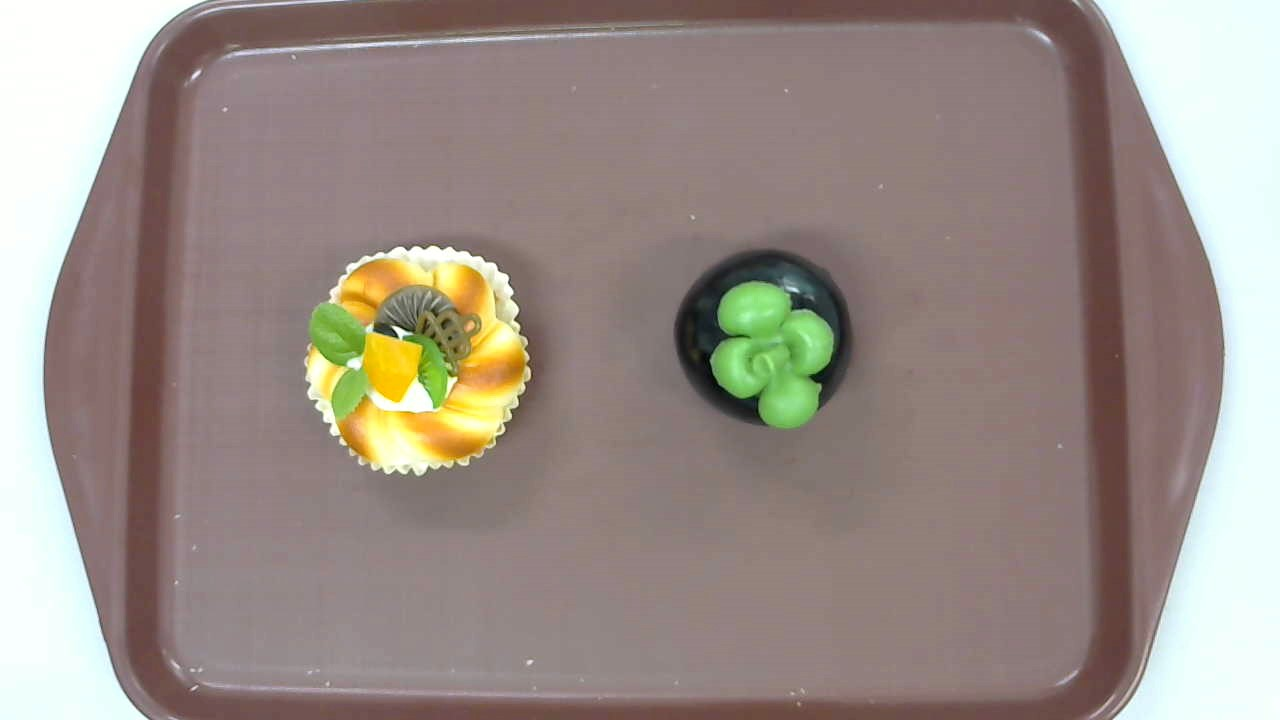fruit tart: (303, 244, 533, 478)
mangosteen: (674, 248, 851, 426)
